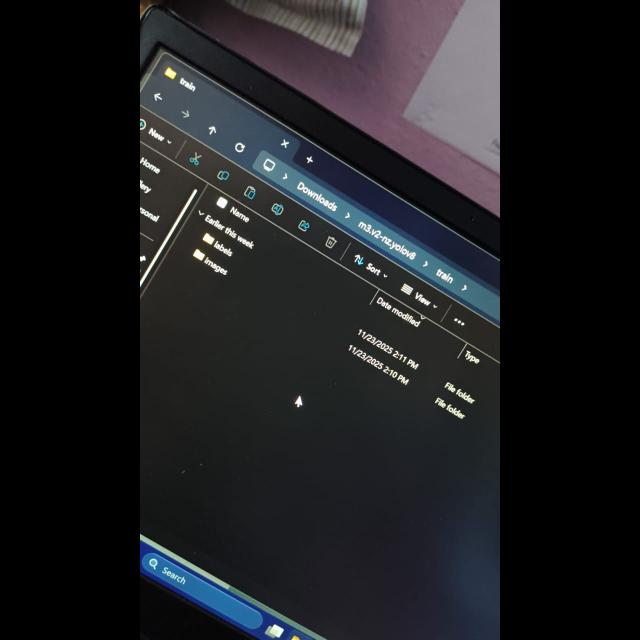laptop: (147, 11, 497, 640)
